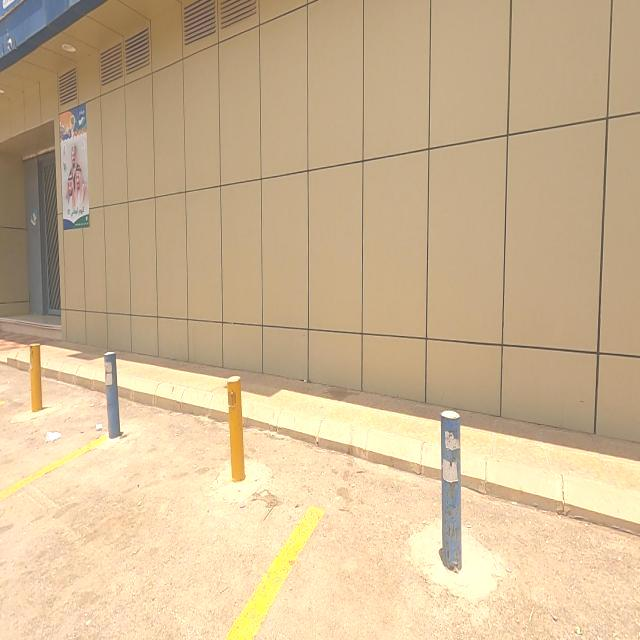debris: (34, 403, 70, 472), (82, 397, 113, 453)
